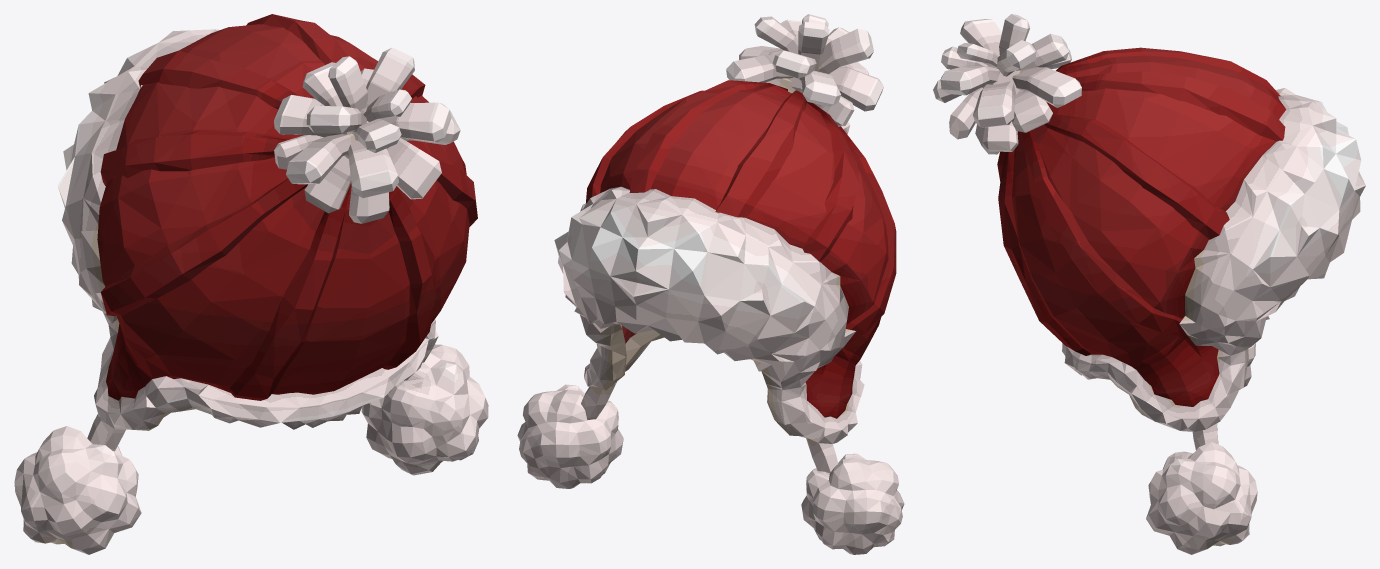
File: CharSkyKid_Hair_WoolHat.glb
3 renders of one model, left to right at view 1: azimuth 30°, elevation 25°; view 2: azimuth 150°, elevation 25°; view 3: azimuth 270°, elevation 25°, orthographic. The views are drawn at different scales.
Parts seen in each view (by area): view 1: CharSkyKid_Hair_WoolHat; view 2: CharSkyKid_Hair_WoolHat; view 3: CharSkyKid_Hair_WoolHat.
Boxes of the visible parts, x1,y1,x2,y2 form: CharSkyKid_Hair_WoolHat: [14, 14, 488, 554]; CharSkyKid_Hair_WoolHat: [517, 14, 904, 554]; CharSkyKid_Hair_WoolHat: [933, 14, 1365, 554].
Bounding box in the file's own units: 4.67 × 5.14 × 4.45.
Materials: 1 (1 with a texture image).
